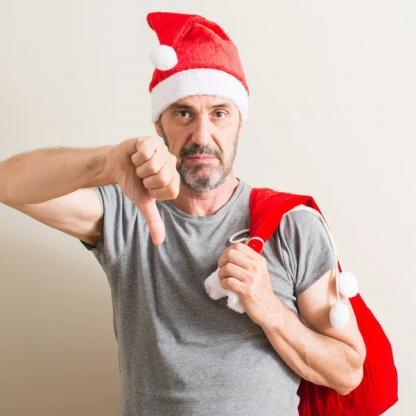thumb_down: (110, 132, 184, 248)
